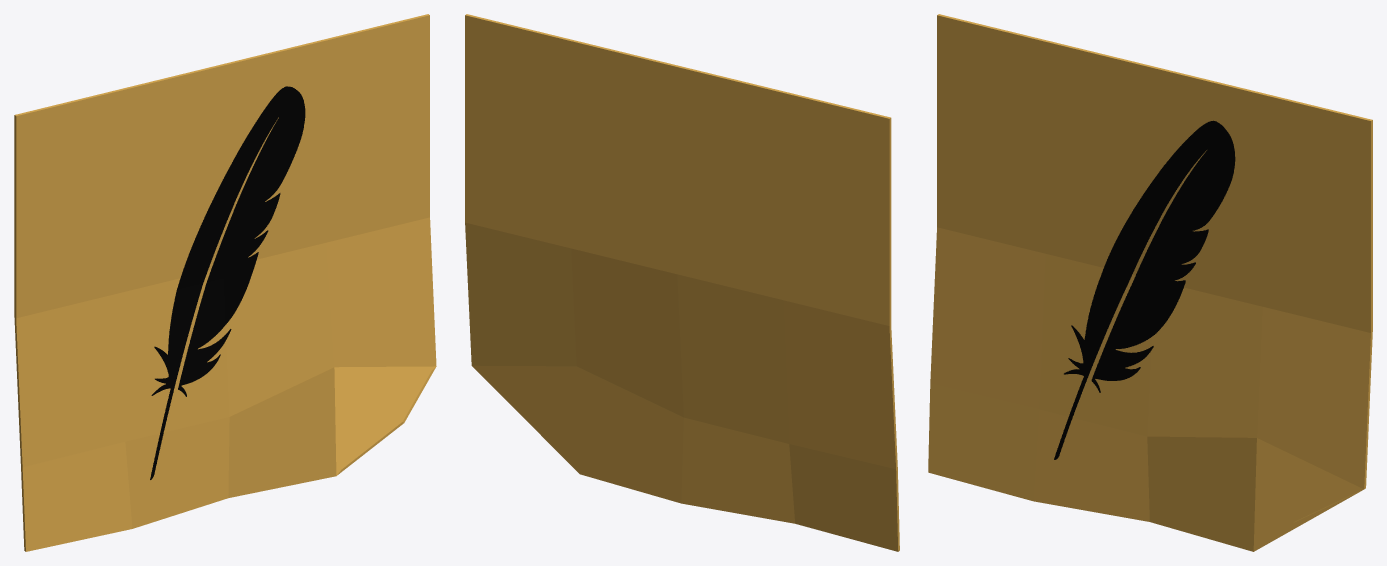
File: FeatherSticker.fbx
3 views of the same model, side by side, from view 1: azimuth 30°, elevation 25°; view 2: azimuth 150°, elevation 25°; view 3: azimuth 330°, elevation 25° (orthographic). The views are drawn at different scales.
Visible parts, largest first — view 1: Plane, feather-g28e8ea5b1_1280; view 2: Plane; view 3: Plane, feather-g28e8ea5b1_1280.
Part boxes in pixels (x1,y1,x2,y2): Plane: [14, 14, 436, 551]; feather-g28e8ea5b1_1280: [150, 86, 305, 479]; Plane: [465, 14, 899, 551]; Plane: [928, 14, 1372, 551]; feather-g28e8ea5b1_1280: [1054, 120, 1235, 459].
Bounding box in the file's own units: 200 × 198 × 21.91.
2 materials, 1 textured.
